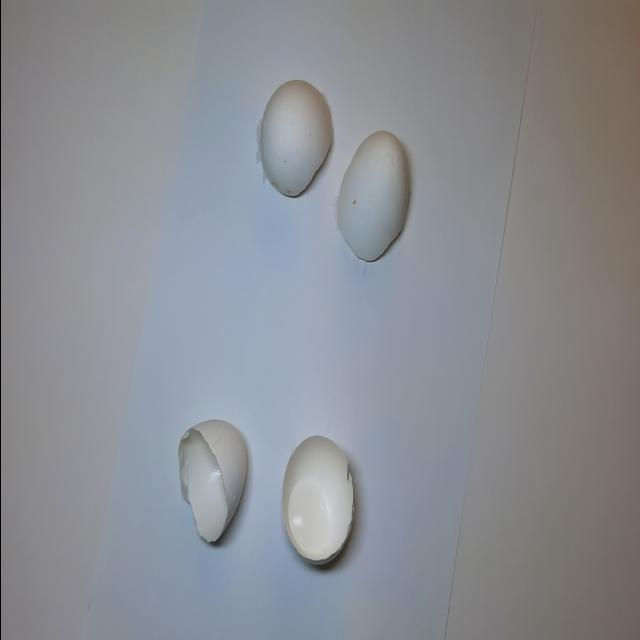egg shell: (172, 392, 252, 556), (274, 425, 358, 575), (334, 125, 410, 268), (252, 73, 334, 201)
